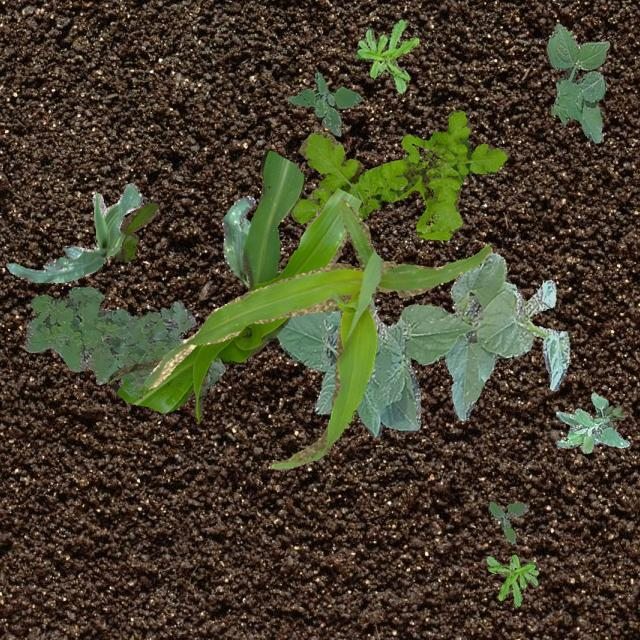crop: (142, 198, 490, 470), (106, 148, 362, 420), (276, 252, 568, 436), (5, 182, 142, 282), (220, 195, 253, 286)
weed: (289, 108, 506, 240), (23, 286, 225, 398), (546, 22, 608, 142), (286, 70, 361, 134), (354, 18, 418, 92), (554, 392, 628, 452), (486, 554, 538, 606), (114, 202, 158, 260), (488, 501, 528, 542), (604, 404, 624, 426)
